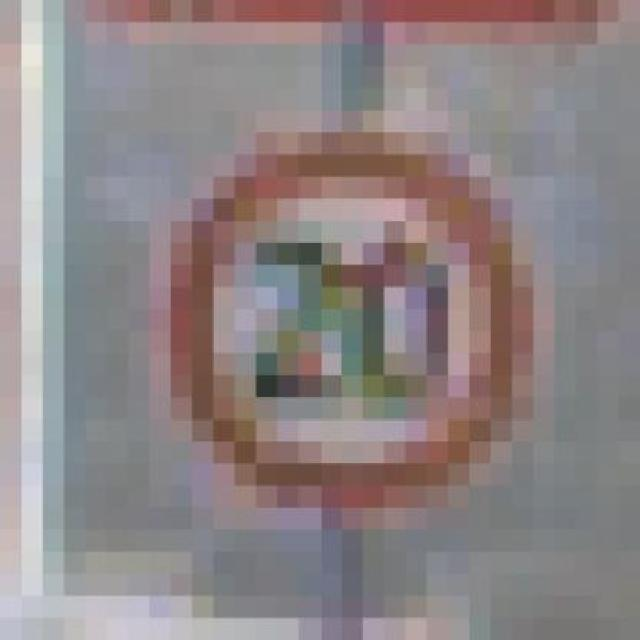forb_speed_over_20: (180, 151, 526, 508)
